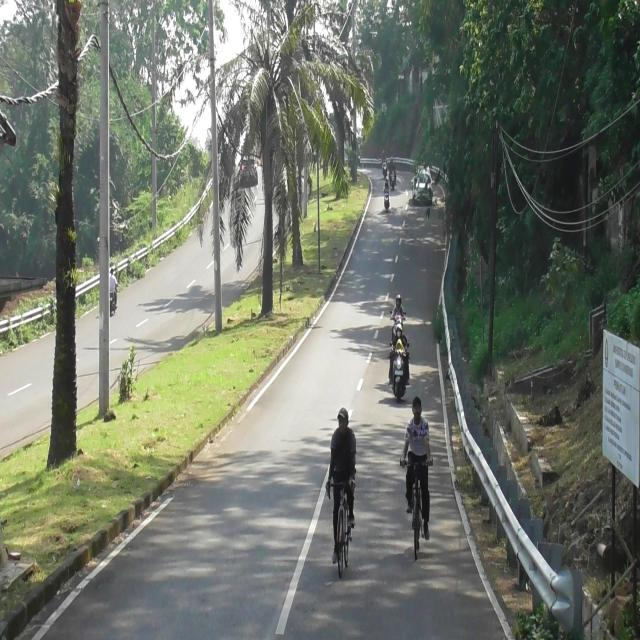motorcycle: (393, 352, 407, 398), (109, 290, 117, 314), (394, 314, 403, 330), (384, 189, 390, 211), (390, 170, 396, 191), (382, 159, 388, 178)
person: (393, 319, 410, 385), (393, 326, 408, 354), (391, 295, 406, 318), (394, 340, 405, 356), (109, 268, 117, 290), (389, 157, 396, 173), (383, 178, 390, 192), (381, 150, 387, 162)
rider_region: (389, 324, 411, 402), (391, 293, 406, 341), (109, 265, 118, 318), (389, 156, 397, 190), (384, 177, 391, 211), (381, 149, 388, 179)
